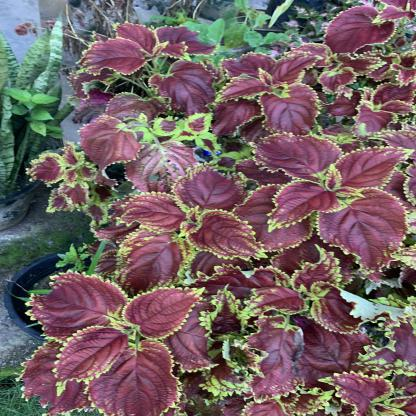Bunga Coleus: (85, 22, 408, 409)
